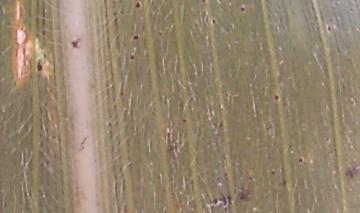tarspot: (67, 36, 82, 49), (35, 57, 43, 73), (119, 80, 124, 97), (272, 92, 280, 101), (131, 34, 141, 41), (296, 156, 304, 164), (119, 5, 125, 15), (134, 1, 141, 9), (180, 117, 188, 124), (223, 91, 231, 98), (150, 109, 157, 117), (129, 53, 135, 62), (211, 17, 217, 26), (326, 25, 332, 34), (268, 169, 277, 175), (223, 169, 229, 178), (218, 118, 223, 128), (156, 30, 163, 37), (324, 135, 331, 142), (239, 6, 245, 13), (238, 195, 245, 201), (38, 161, 44, 168), (281, 180, 287, 186), (44, 159, 49, 166), (107, 120, 112, 126), (200, 1, 207, 5)
